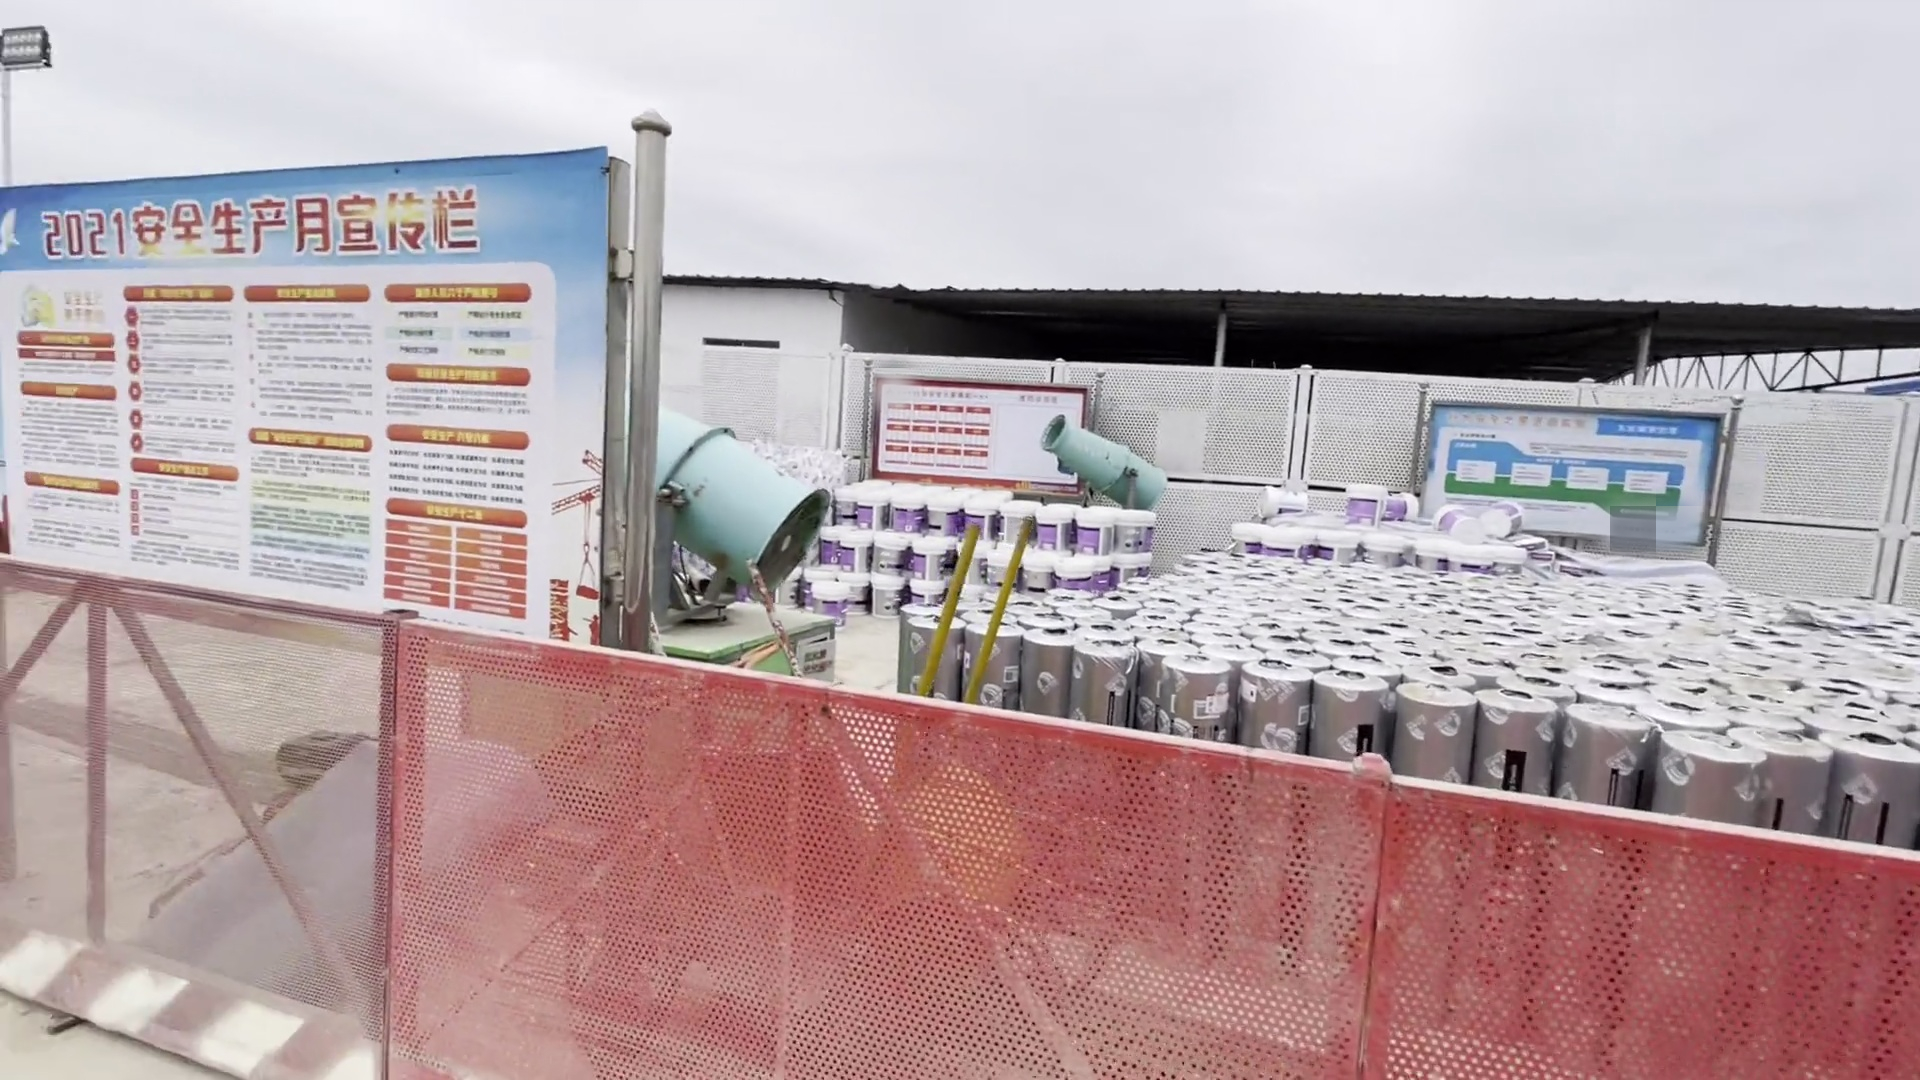fence: (8, 555, 1920, 1073)
